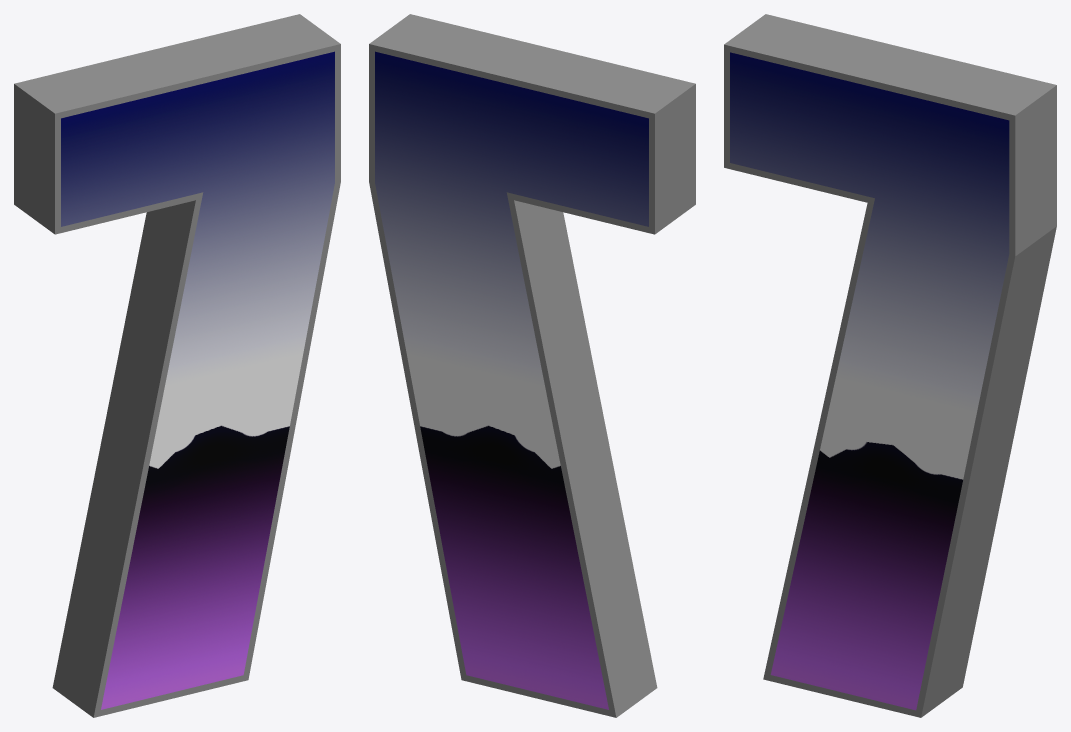
3 renders of one model, left to right at view 1: azimuth 30°, elevation 25°; view 2: azimuth 150°, elevation 25°; view 3: azimuth 330°, elevation 25°, orthographic.
Visible parts, largest first — view 1: 7, 7_outline; view 2: 7, 7_outline; view 3: 7, 7_outline.
Boxes of the visible parts, x1=… form: 7: x1=61, y1=51, x2=334, y2=709; 7_outline: x1=14, y1=14, x2=340, y2=717; 7: x1=375, y1=51, x2=648, y2=709; 7_outline: x1=369, y1=14, x2=695, y2=717; 7: x1=730, y1=52, x2=1009, y2=710; 7_outline: x1=724, y1=14, x2=1056, y2=717.
Bounding box in the file's own units: 48.35 × 99.2 × 12.
2 materials, 1 textured.
